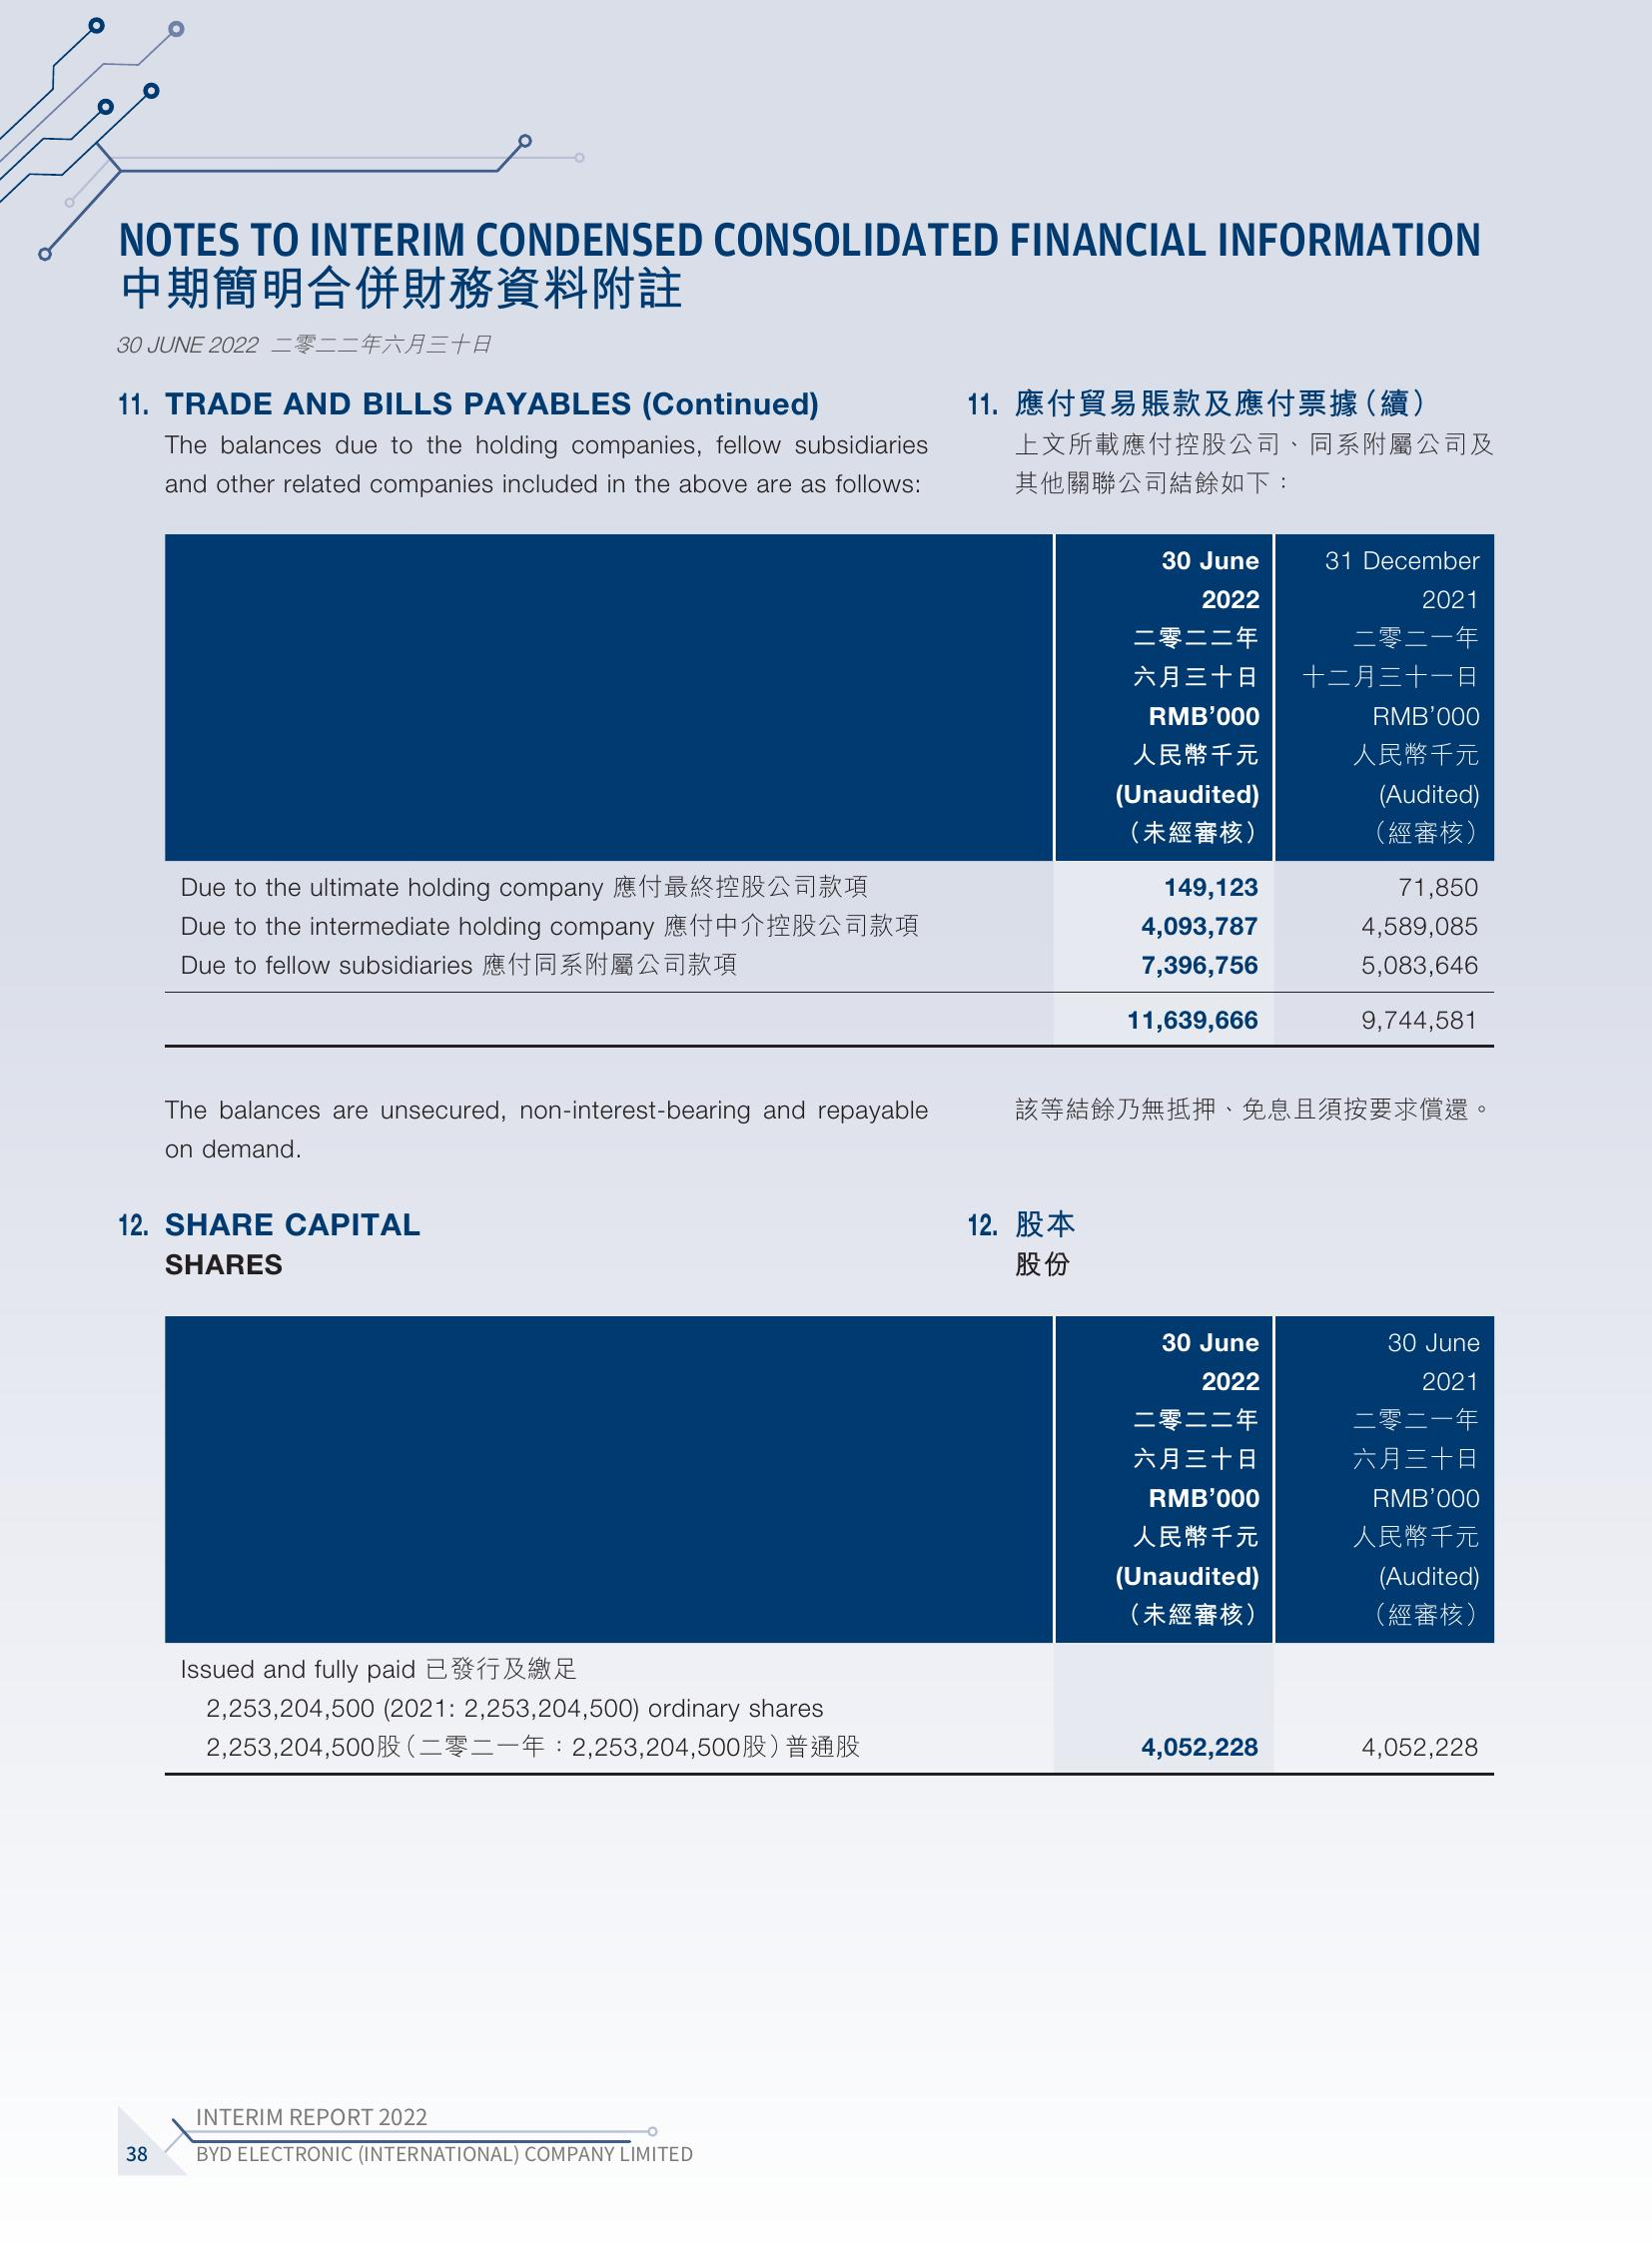Footer: (0, 2084, 1652, 2242)
Header: (0, 0, 1652, 185)
Table: (113, 507, 1504, 1058), (136, 1285, 1525, 1791)
